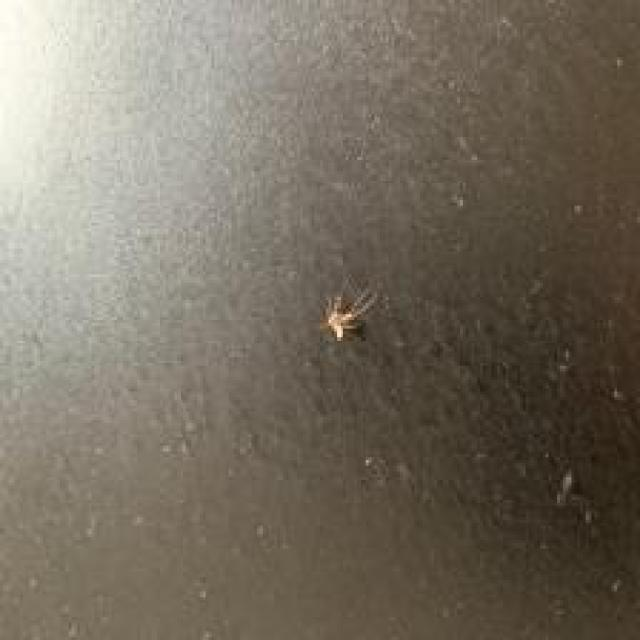Culex: (322, 284, 378, 342)
